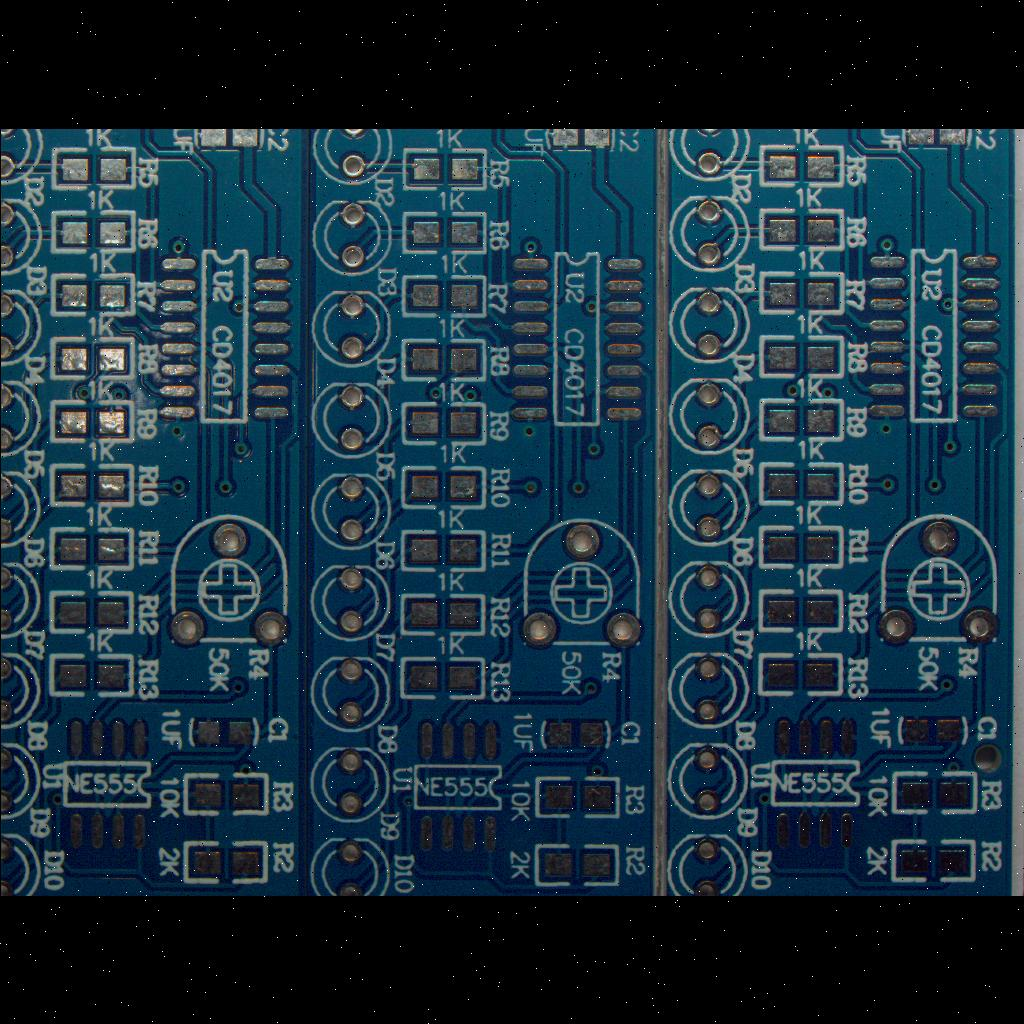NG: (856, 236, 1010, 430), (498, 241, 650, 437), (151, 238, 303, 428), (763, 710, 865, 856), (56, 711, 156, 857), (404, 715, 504, 859), (396, 205, 492, 259), (43, 524, 139, 576), (886, 836, 980, 888), (754, 584, 846, 636), (754, 330, 846, 382), (44, 460, 136, 512), (529, 772, 623, 822), (43, 333, 137, 383), (755, 521, 847, 571), (756, 394, 848, 444), (755, 457, 847, 507), (44, 588, 138, 636), (753, 650, 847, 698), (528, 841, 622, 889), (398, 334, 488, 384), (398, 590, 488, 640), (400, 144, 490, 194), (398, 462, 488, 512), (758, 266, 848, 316), (48, 268, 138, 318), (178, 770, 270, 818), (178, 836, 270, 884), (398, 272, 490, 320), (48, 207, 140, 255), (397, 654, 487, 702), (536, 711, 618, 763), (886, 771, 978, 817), (755, 206, 847, 252), (46, 652, 136, 698), (48, 145, 138, 191), (398, 528, 488, 574), (756, 142, 846, 188), (180, 708, 264, 756), (892, 707, 976, 753), (401, 401, 485, 445), (52, 398, 136, 440)
OK: (47, 394, 137, 446)
